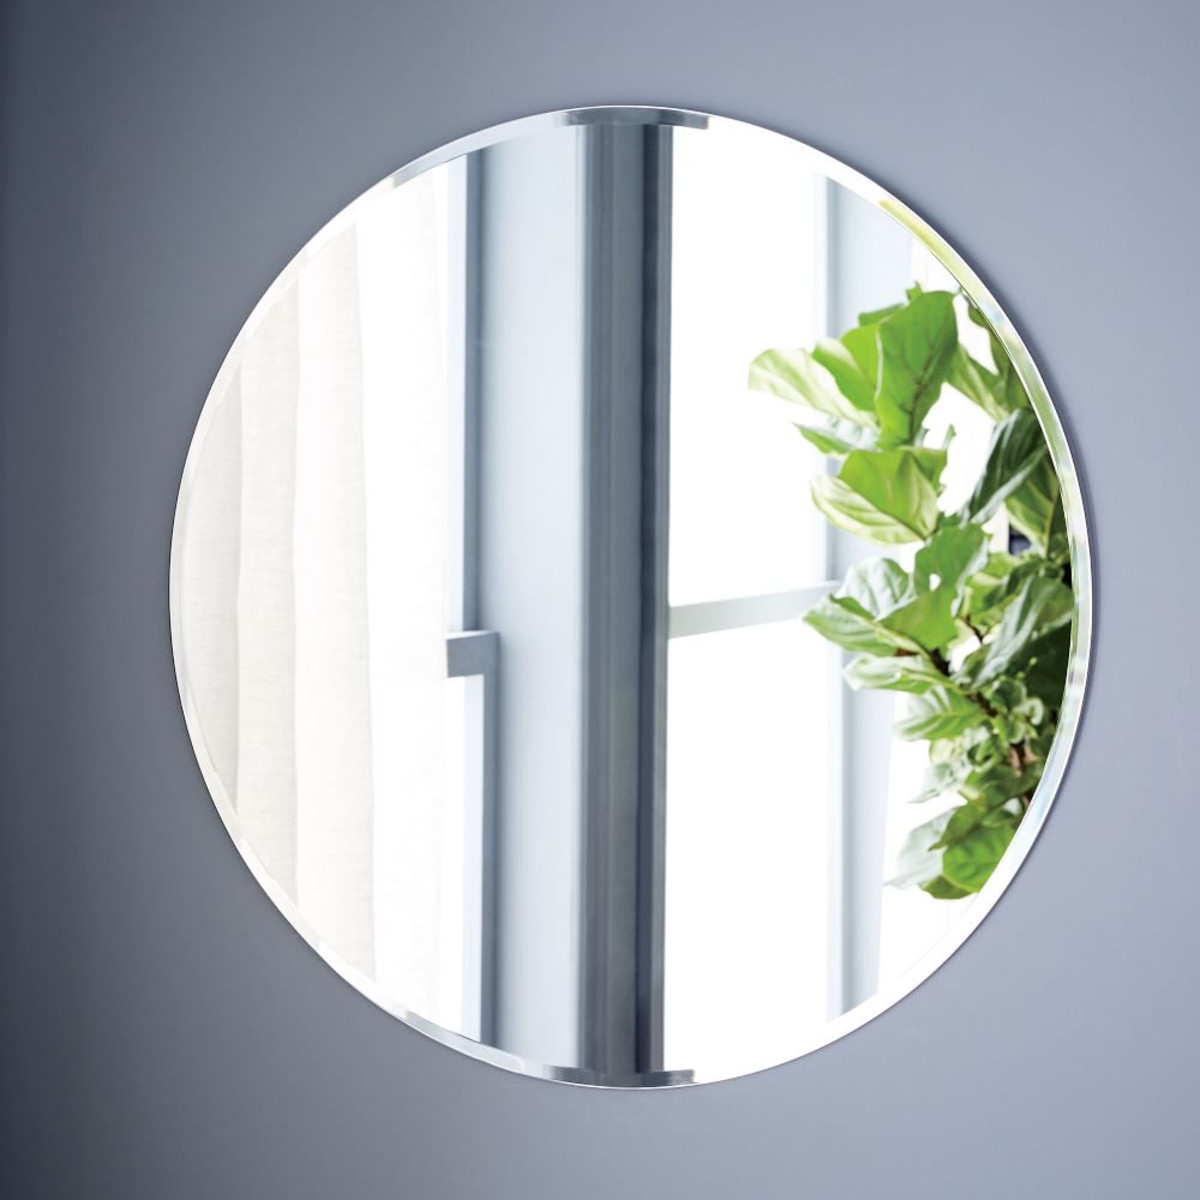Nonrec_Glass: (148, 75, 1124, 1104)
